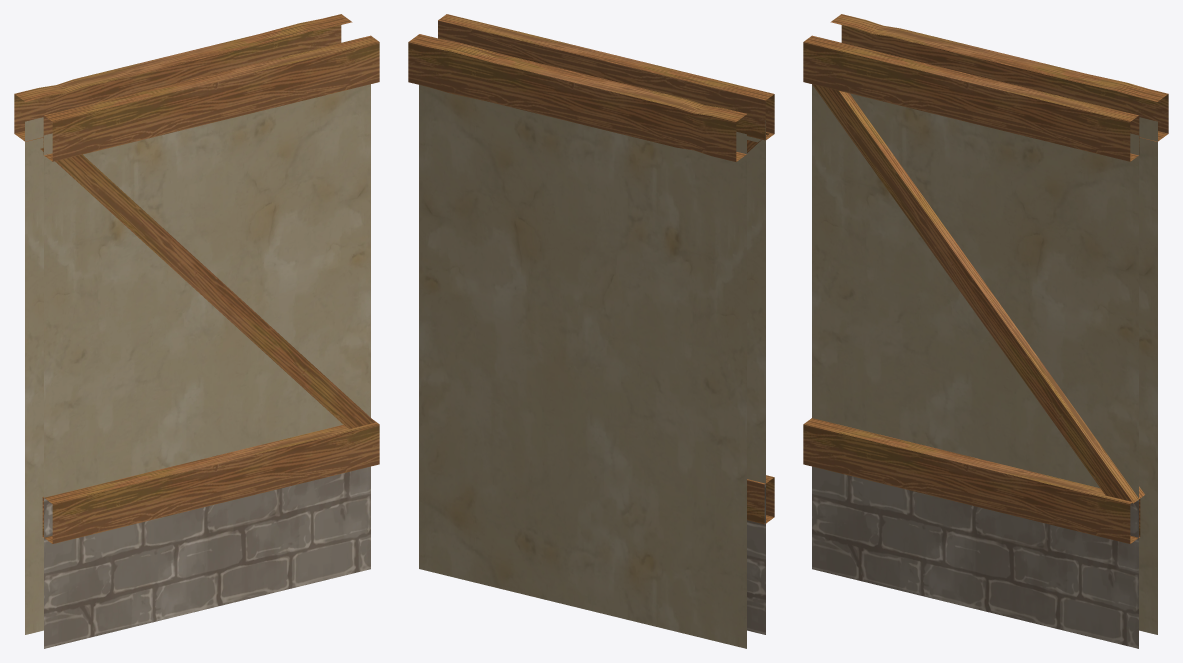
The model's file is Wall_Plaster_Straight_L.gltf.
3 views of the same model, side by side, from view 1: azimuth 30°, elevation 25°; view 2: azimuth 150°, elevation 25°; view 3: azimuth 330°, elevation 25° (orthographic).
Visible parts, largest first — view 1: Wall_Plaster_Straight_L; view 2: Wall_Plaster_Straight_L; view 3: Wall_Plaster_Straight_L.
Boxes of the visible parts, x1=… form: Wall_Plaster_Straight_L: x1=14, y1=14, x2=379, y2=648; Wall_Plaster_Straight_L: x1=408, y1=14, x2=774, y2=648; Wall_Plaster_Straight_L: x1=803, y1=14, x2=1168, y2=648.
Bounding box in the file's own units: 2 × 3.12 × 0.4065.
3 materials, 3 textured.
